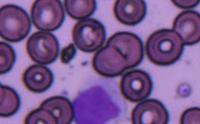L: (72, 77, 127, 124)
